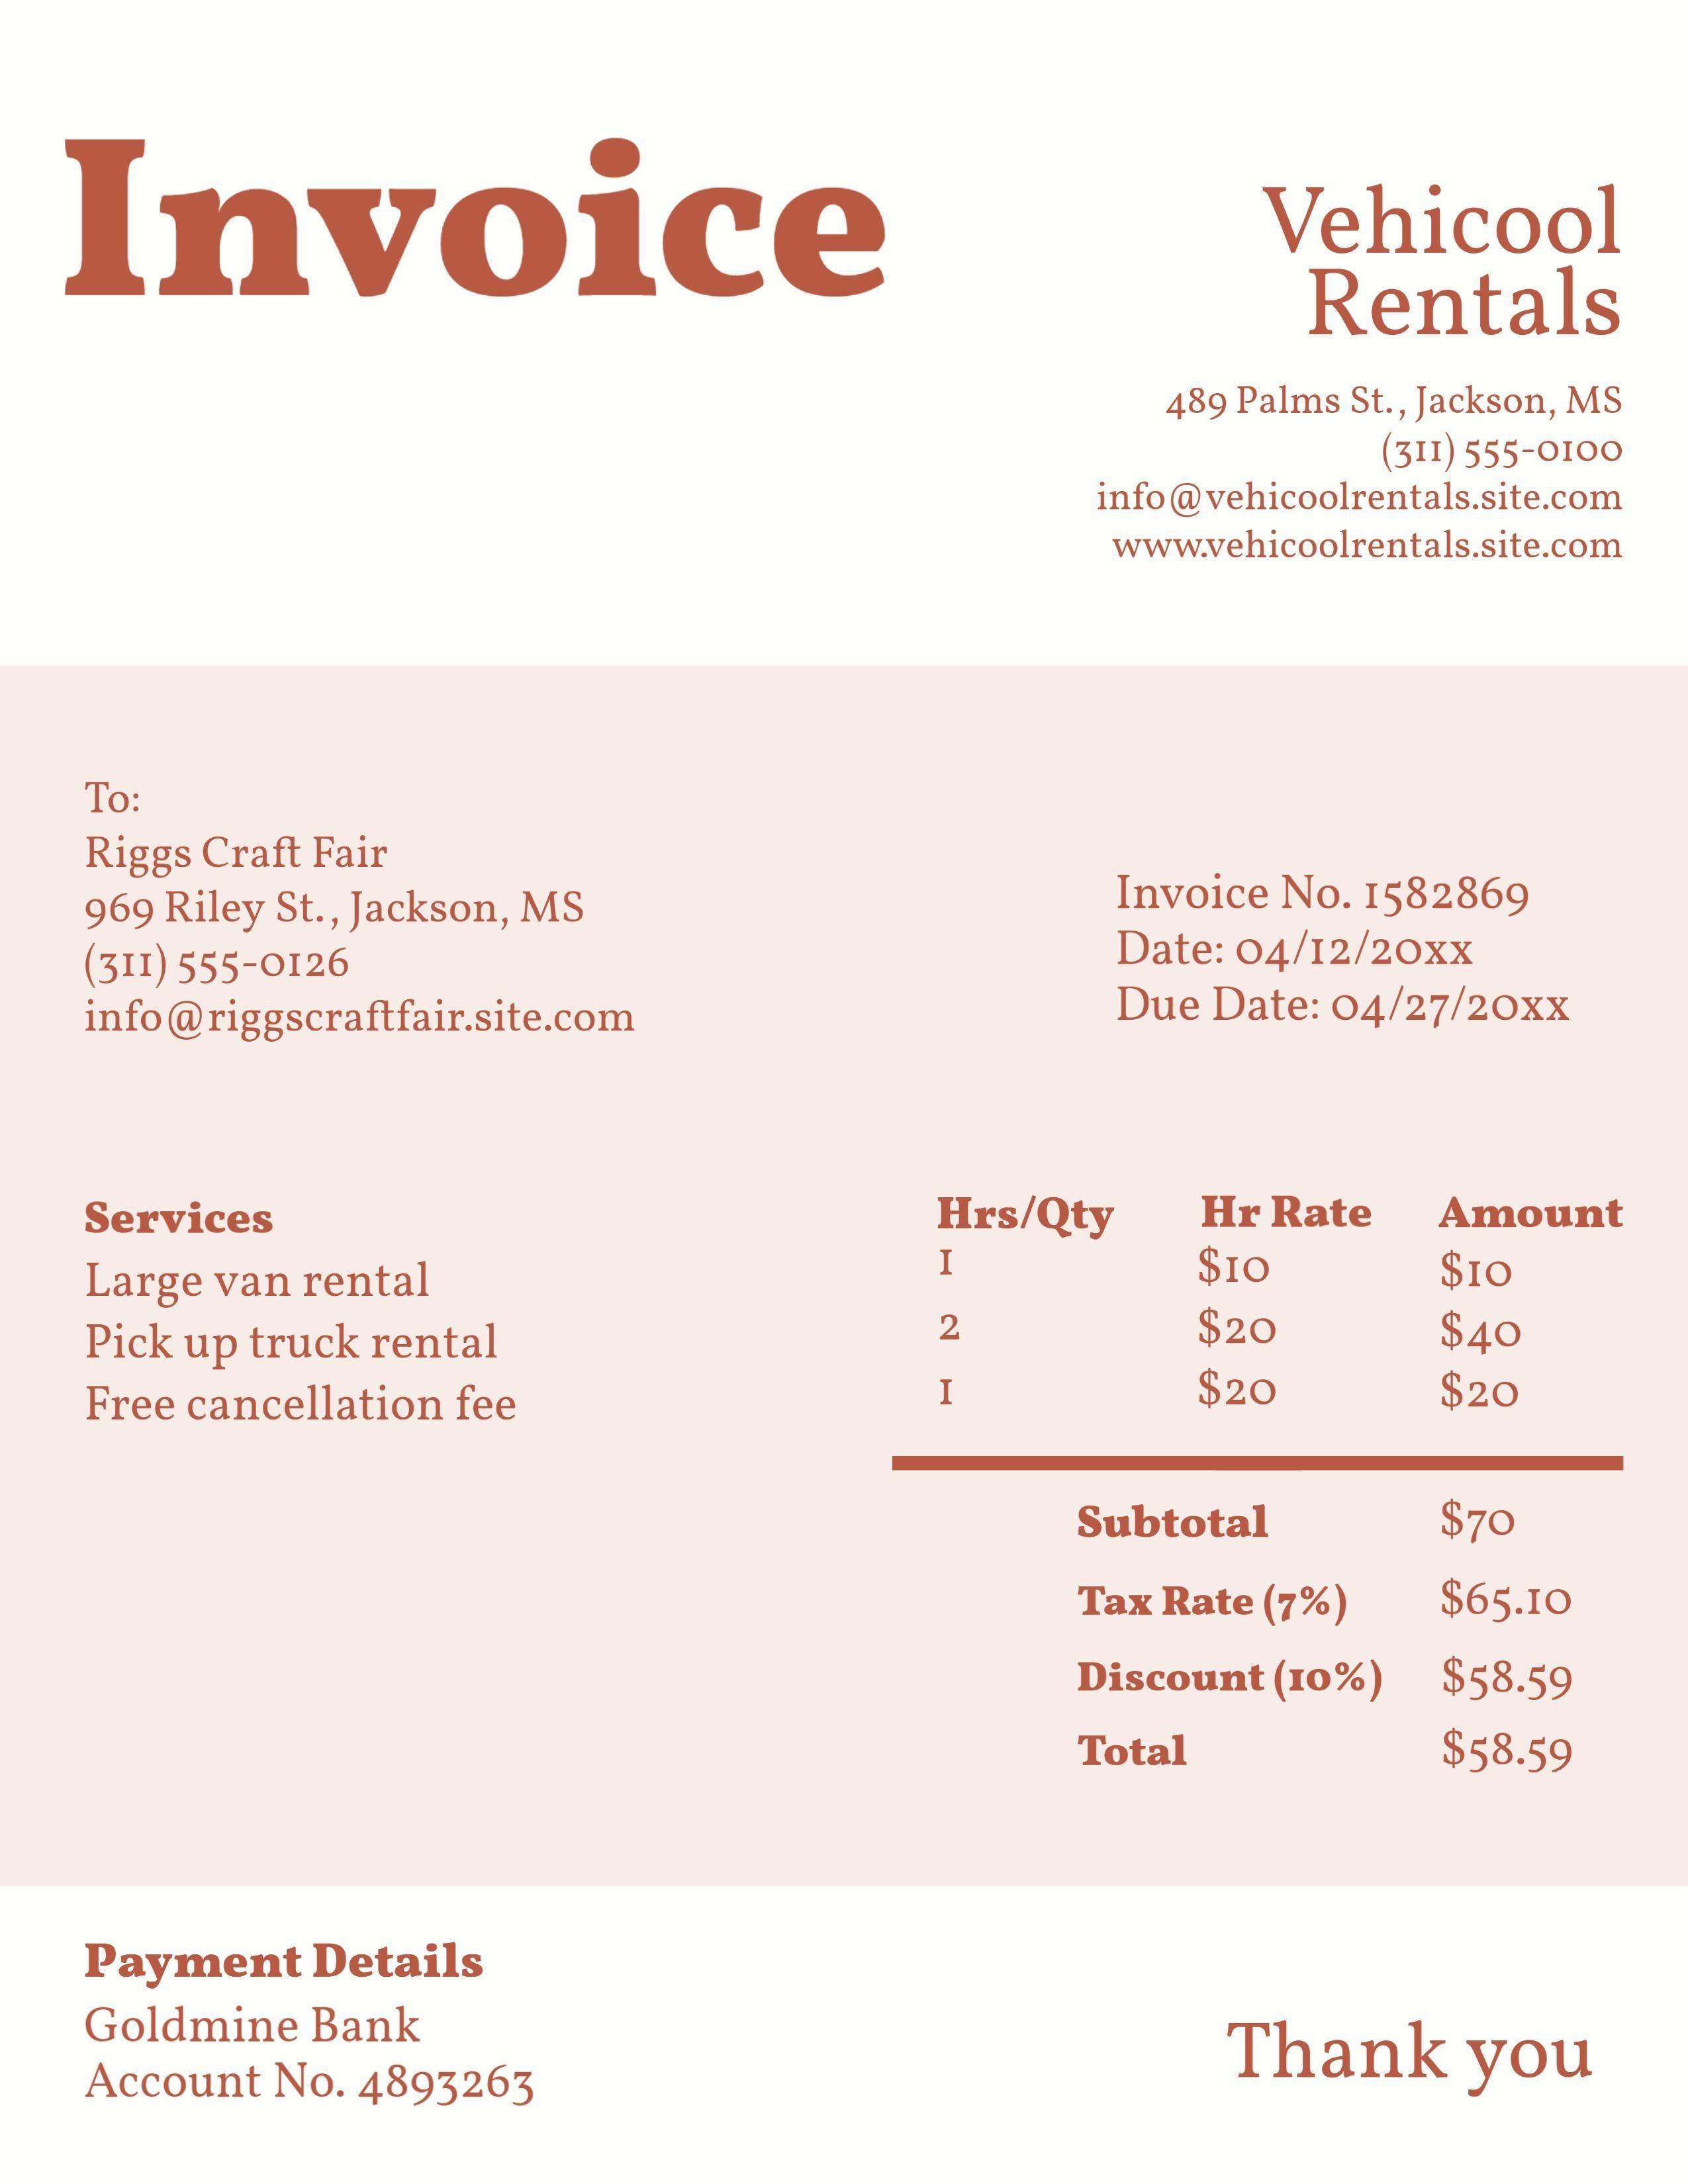ROI: (67, 1182, 1638, 1475), (1085, 145, 1629, 594), (1046, 1487, 1628, 1810), (67, 760, 642, 1055), (74, 1925, 695, 2149), (1082, 840, 1582, 1035)
